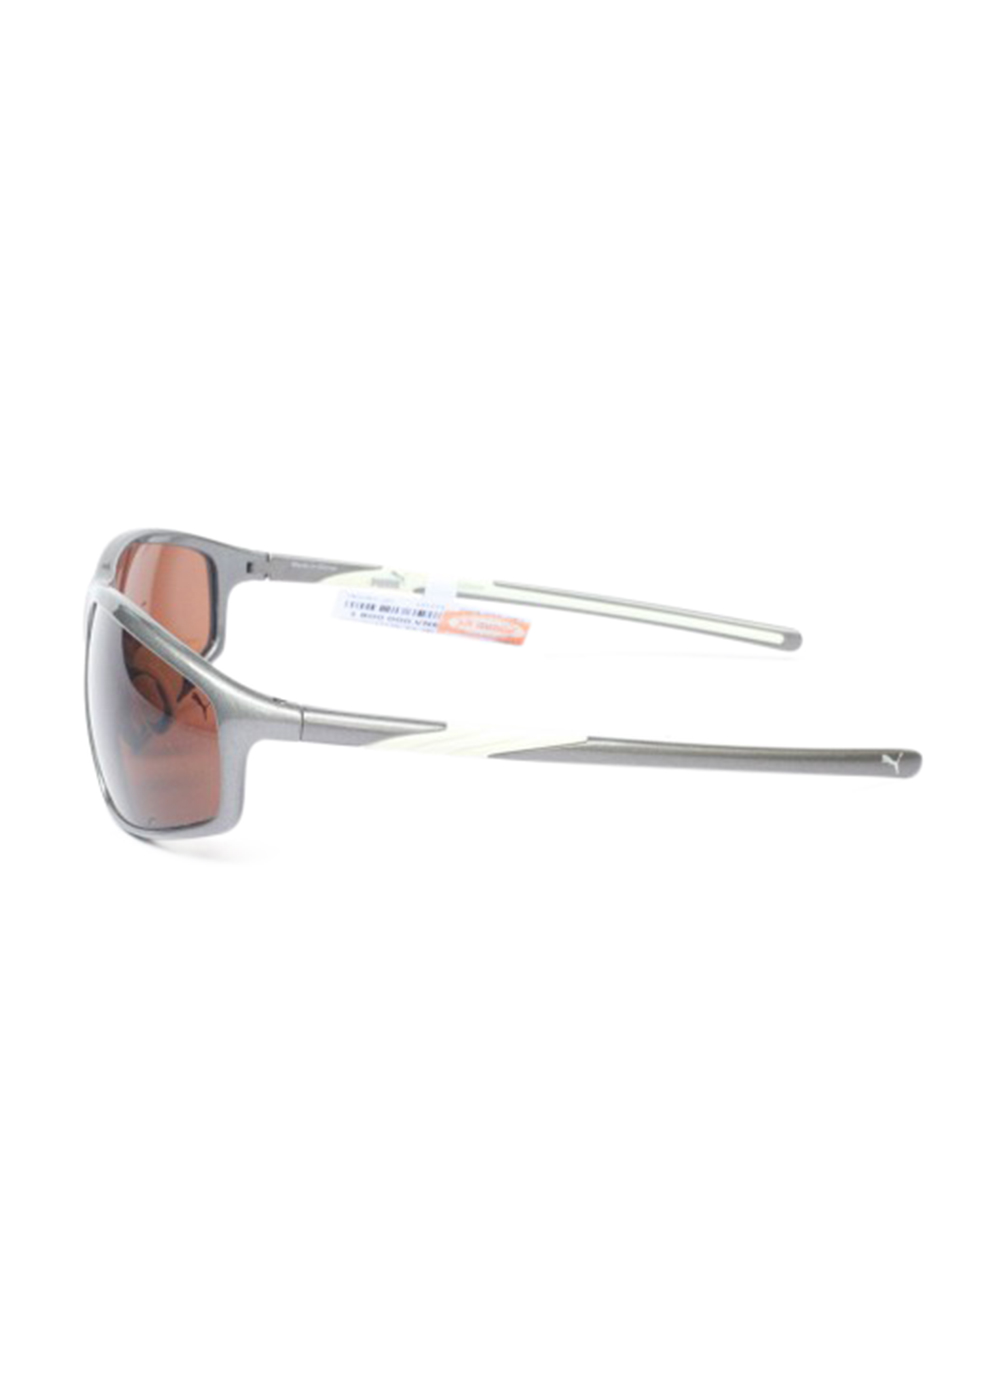Puma: (860, 735, 916, 785), (187, 687, 220, 719)
